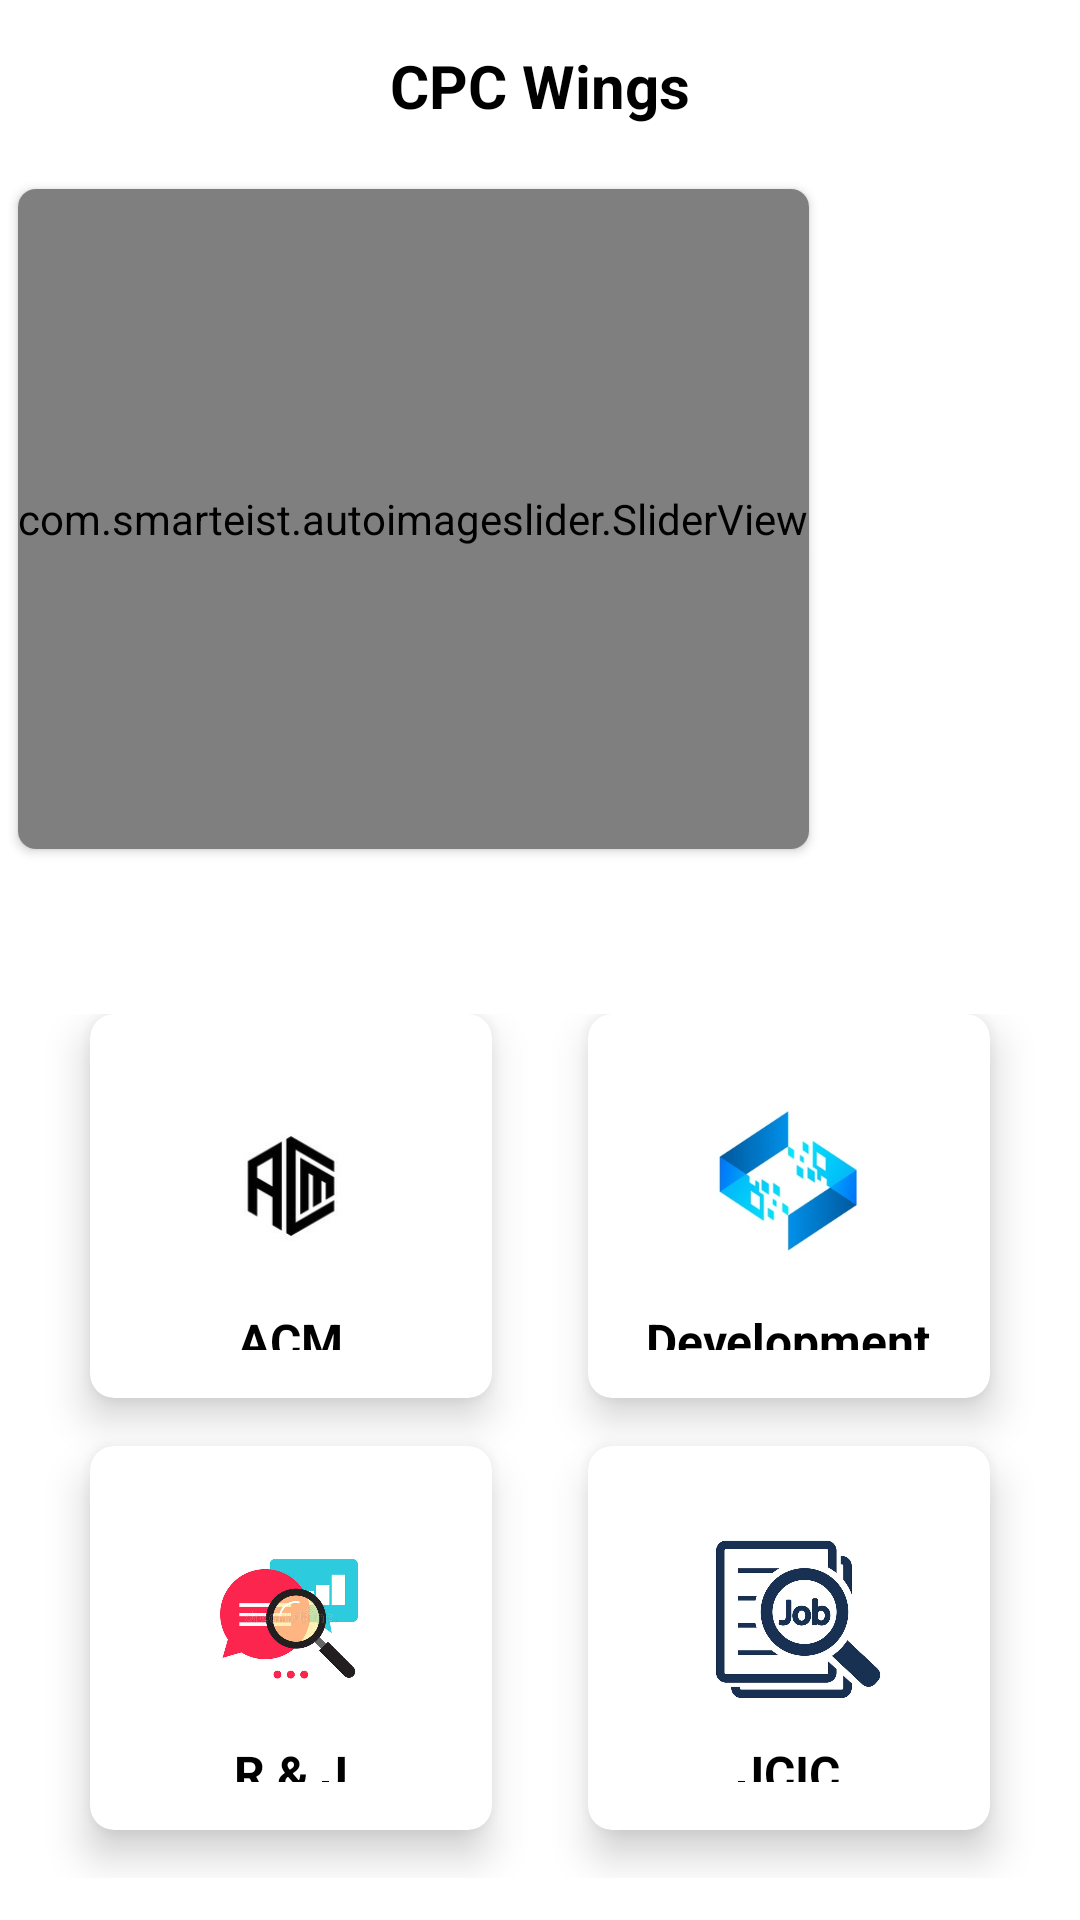

Screen size 1080px×1920px. Icon name, then its center in pixels as (x,y):
research: (289,1619)
